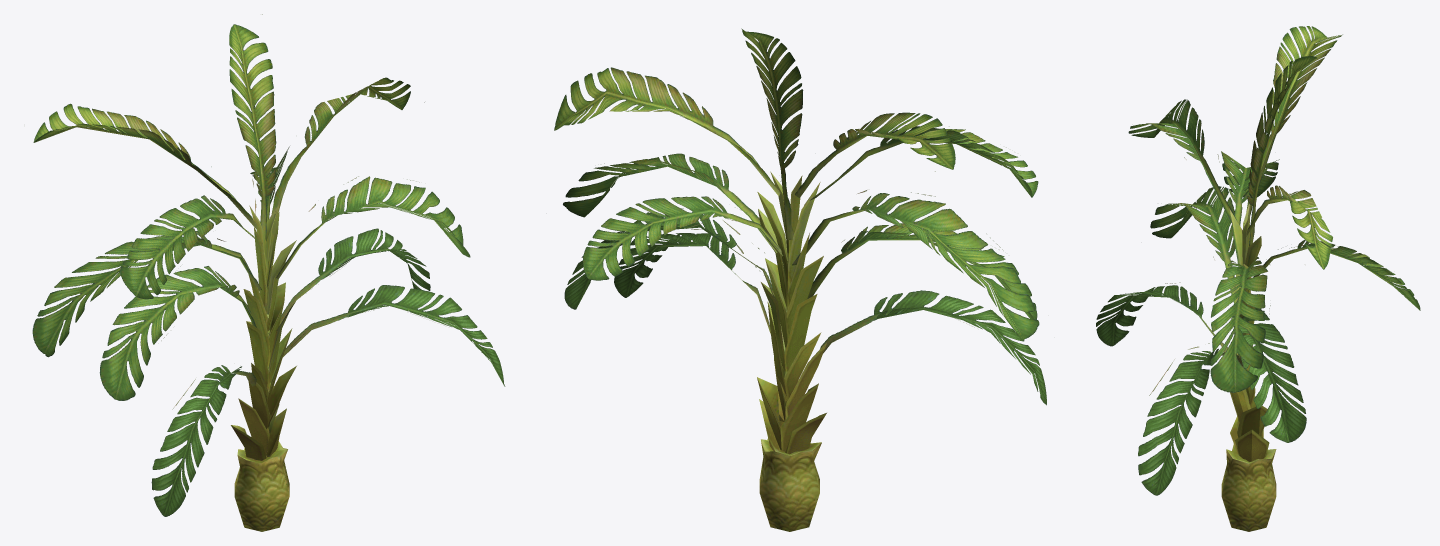
The model's file is 5010_Item_zhiwu_01.FBX.
3 views of the same model, side by side, from view 1: azimuth 30°, elevation 25°; view 2: azimuth 150°, elevation 25°; view 3: azimuth 270°, elevation 25° (orthographic). The views are drawn at different scales.
Visible parts, largest first — view 1: 5010_Item_zhiwu_01; view 2: 5010_Item_zhiwu_01; view 3: 5010_Item_zhiwu_01.
Part boxes in pixels (x1,y1,x2,y2): 5010_Item_zhiwu_01: [32, 14, 505, 531]; 5010_Item_zhiwu_01: [554, 28, 1046, 531]; 5010_Item_zhiwu_01: [1096, 26, 1420, 531].
Size of the model in its own units: 196 by 200 by 130.
